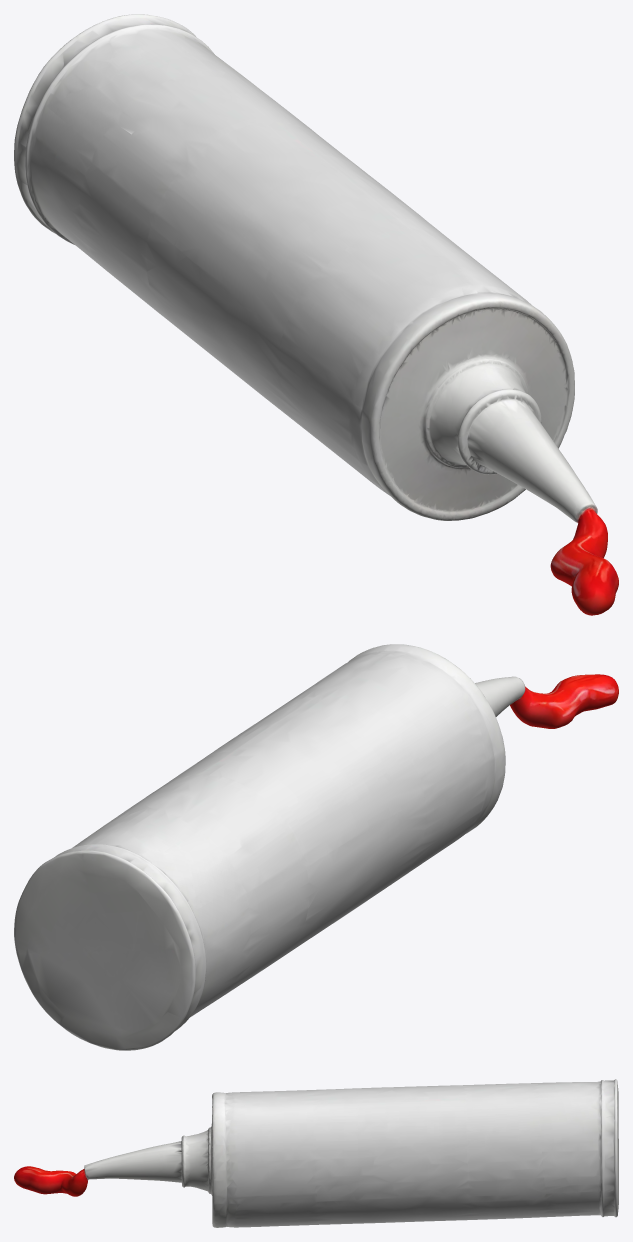
Rendered from yhswellseal.glb.
3 renders of one model, top to bottom at view 1: azimuth 30°, elevation 25°; view 2: azimuth 150°, elevation 25°; view 3: azimuth 270°, elevation 25°, orthographic. The views are drawn at different scales.
Parts seen in each view (by area): view 1: tripo_node_153672c2-b94d-4d3e-935f-b1cebb29ae91; view 2: tripo_node_153672c2-b94d-4d3e-935f-b1cebb29ae91; view 3: tripo_node_153672c2-b94d-4d3e-935f-b1cebb29ae91.
Boxes of the visible parts, bbox=[...] form: tripo_node_153672c2-b94d-4d3e-935f-b1cebb29ae91: bbox=[14, 14, 618, 615]; tripo_node_153672c2-b94d-4d3e-935f-b1cebb29ae91: bbox=[14, 644, 618, 1050]; tripo_node_153672c2-b94d-4d3e-935f-b1cebb29ae91: bbox=[14, 1079, 618, 1227].
Size of the model in its own units: 0.2235 by 0.249 by 0.9999.
Materials: 1 (1 with a texture image).
